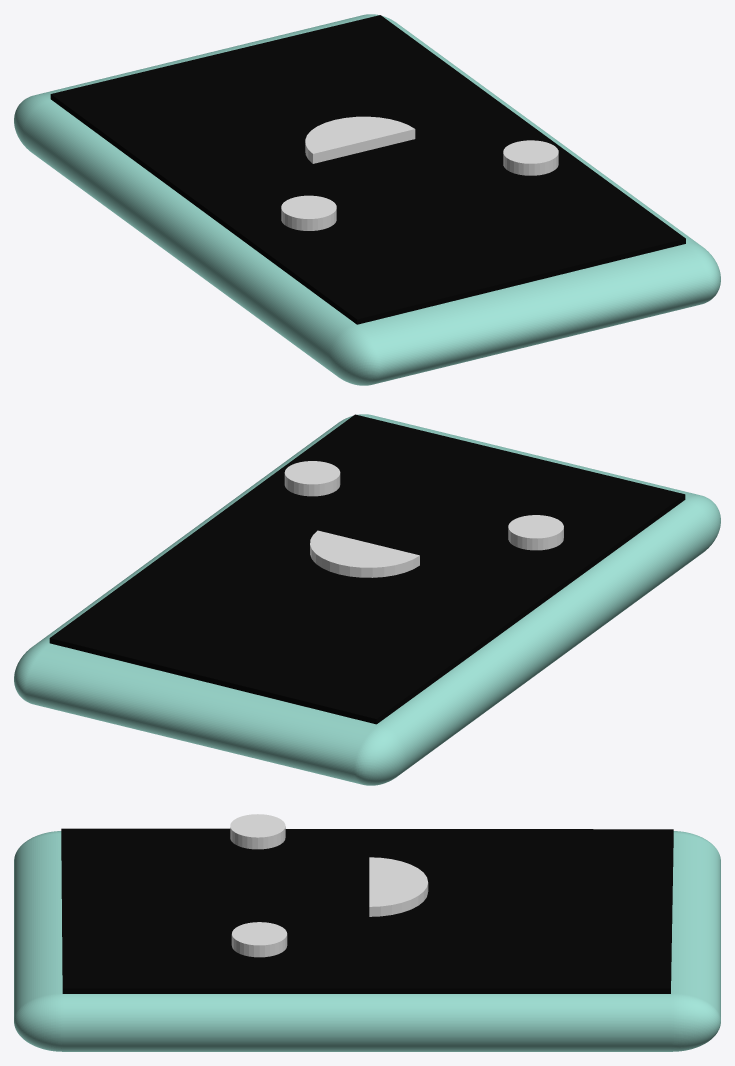
The model's file is tPhone.fbx.
3 renders of one model, top to bottom at view 1: azimuth 30°, elevation 25°; view 2: azimuth 150°, elevation 25°; view 3: azimuth 270°, elevation 25°, orthographic.
Visible parts, largest first — view 1: TealScreen, TealPhone, TealFace; view 2: TealScreen, TealPhone, TealFace; view 3: TealScreen, TealPhone, TealFace.
Boxes of the visible parts, <box> form: TealScreen: <box>50,15,685,324</box>; TealPhone: <box>14,14,720,385</box>; TealFace: <box>281,116,558,230</box>; TealScreen: <box>49,414,685,724</box>; TealPhone: <box>14,414,720,785</box>; TealFace: <box>284,461,563,577</box>; TealScreen: <box>61,828,673,993</box>; TealPhone: <box>14,831,720,1051</box>; TealFace: <box>230,814,428,957</box>.
Size of the model in its own units: 99.37 by 23.83 by 160.
